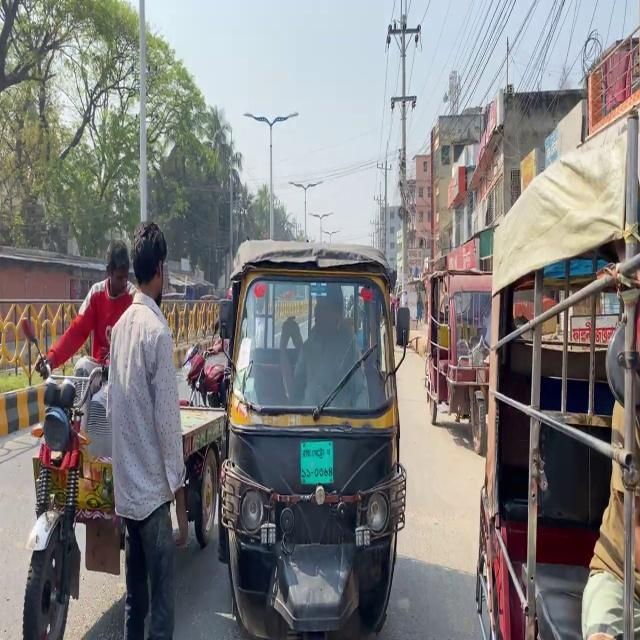Construction-barrier: (0, 373, 93, 437), (0, 381, 47, 437), (406, 332, 423, 356)
Fallen-tree: (18, 316, 123, 639), (182, 339, 231, 408)
Garbage-bin: (105, 220, 188, 639), (280, 286, 368, 408)
Light-pole: (137, 0, 149, 224)
Traffic-cone: (473, 102, 639, 639), (216, 237, 409, 638), (421, 223, 496, 456)
